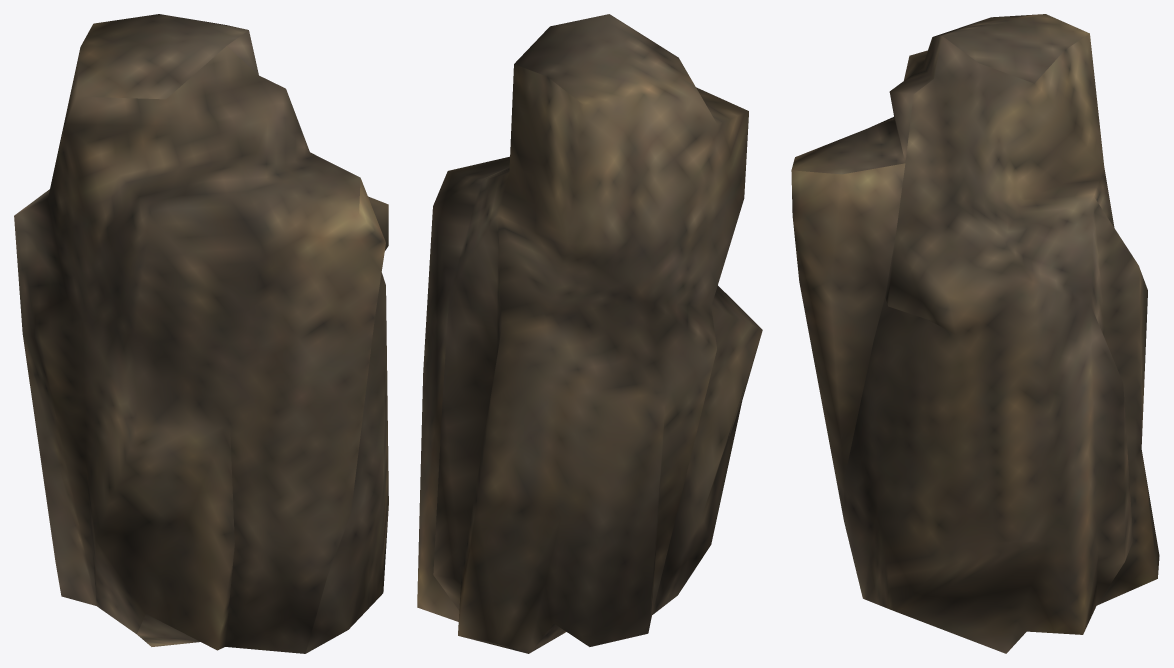
The model's file is Rock01_06.FBX.
3 views of the same model, side by side, from view 1: azimuth 30°, elevation 25°; view 2: azimuth 150°, elevation 25°; view 3: azimuth 270°, elevation 25° (orthographic). The views are drawn at different scales.
Parts seen in each view (by area): view 1: Rock01_06; view 2: Rock01_06; view 3: Rock01_06.
Part boxes in pixels (x1,y1,x2,y2): Rock01_06: (14, 14, 388, 653); Rock01_06: (417, 14, 762, 653); Rock01_06: (791, 14, 1159, 653).
Size of the model in its own units: 127 by 241 by 140.
1 material, 1 textured.
